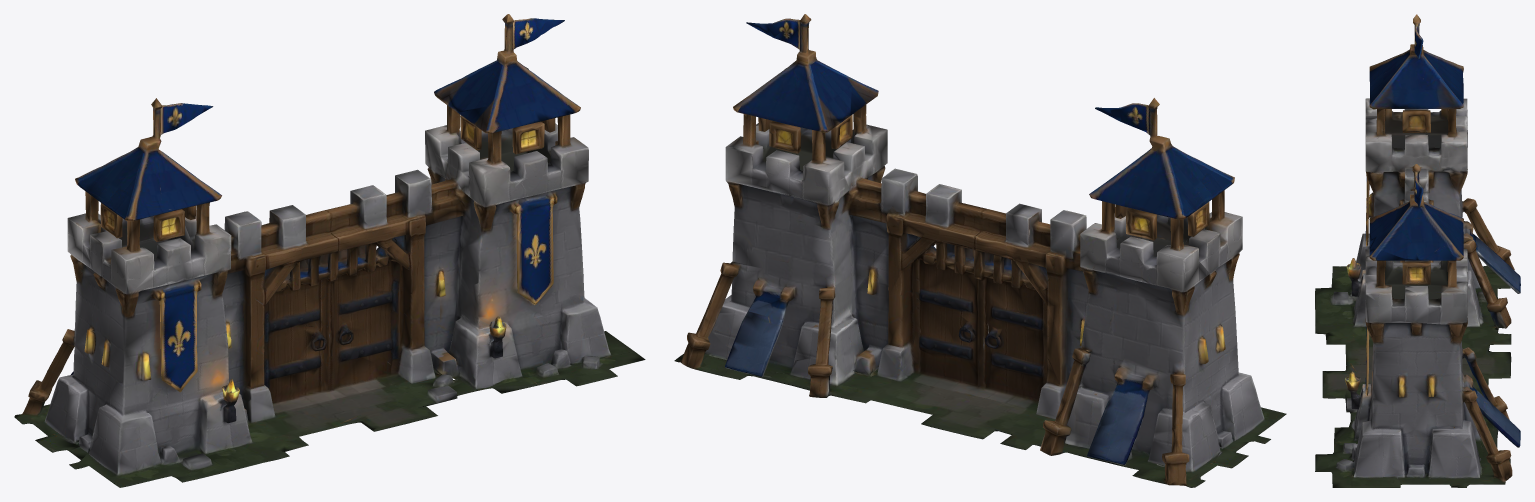
Rendered from wall.glb.
The picture shows the model from 3 angles, left to right: view 1: azimuth 30°, elevation 25°; view 2: azimuth 150°, elevation 25°; view 3: azimuth 270°, elevation 25°; orthographic projection. The views are drawn at different scales.
Bounding box in the file's own units: 1.89 × 1.12 × 0.7208.
1 material, 1 textured.
